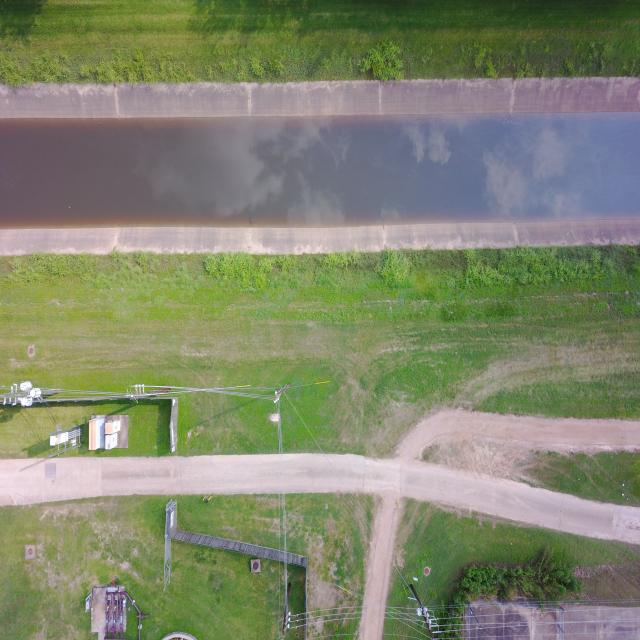fire: (0, 111, 640, 227)
